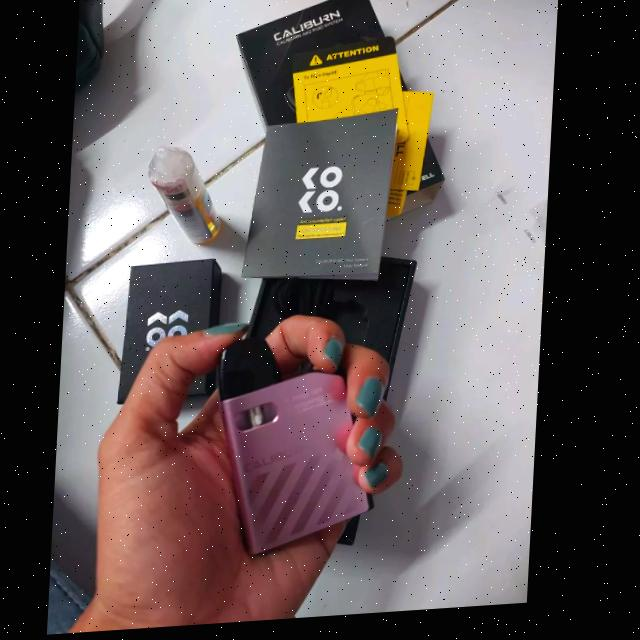vape: (212, 332, 388, 561)
